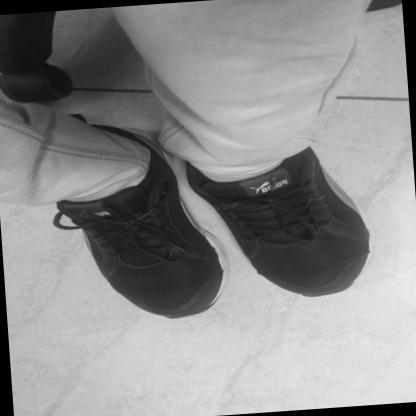ankle: (147, 179, 151, 182), (274, 173, 278, 175)
heel: (307, 150, 311, 153), (125, 129, 127, 131)
left_foot: (52, 117, 233, 326)
pinky: (361, 252, 369, 257), (131, 296, 135, 300)
right_foot: (206, 142, 379, 304)
toe: (206, 291, 212, 295), (282, 284, 288, 286)
